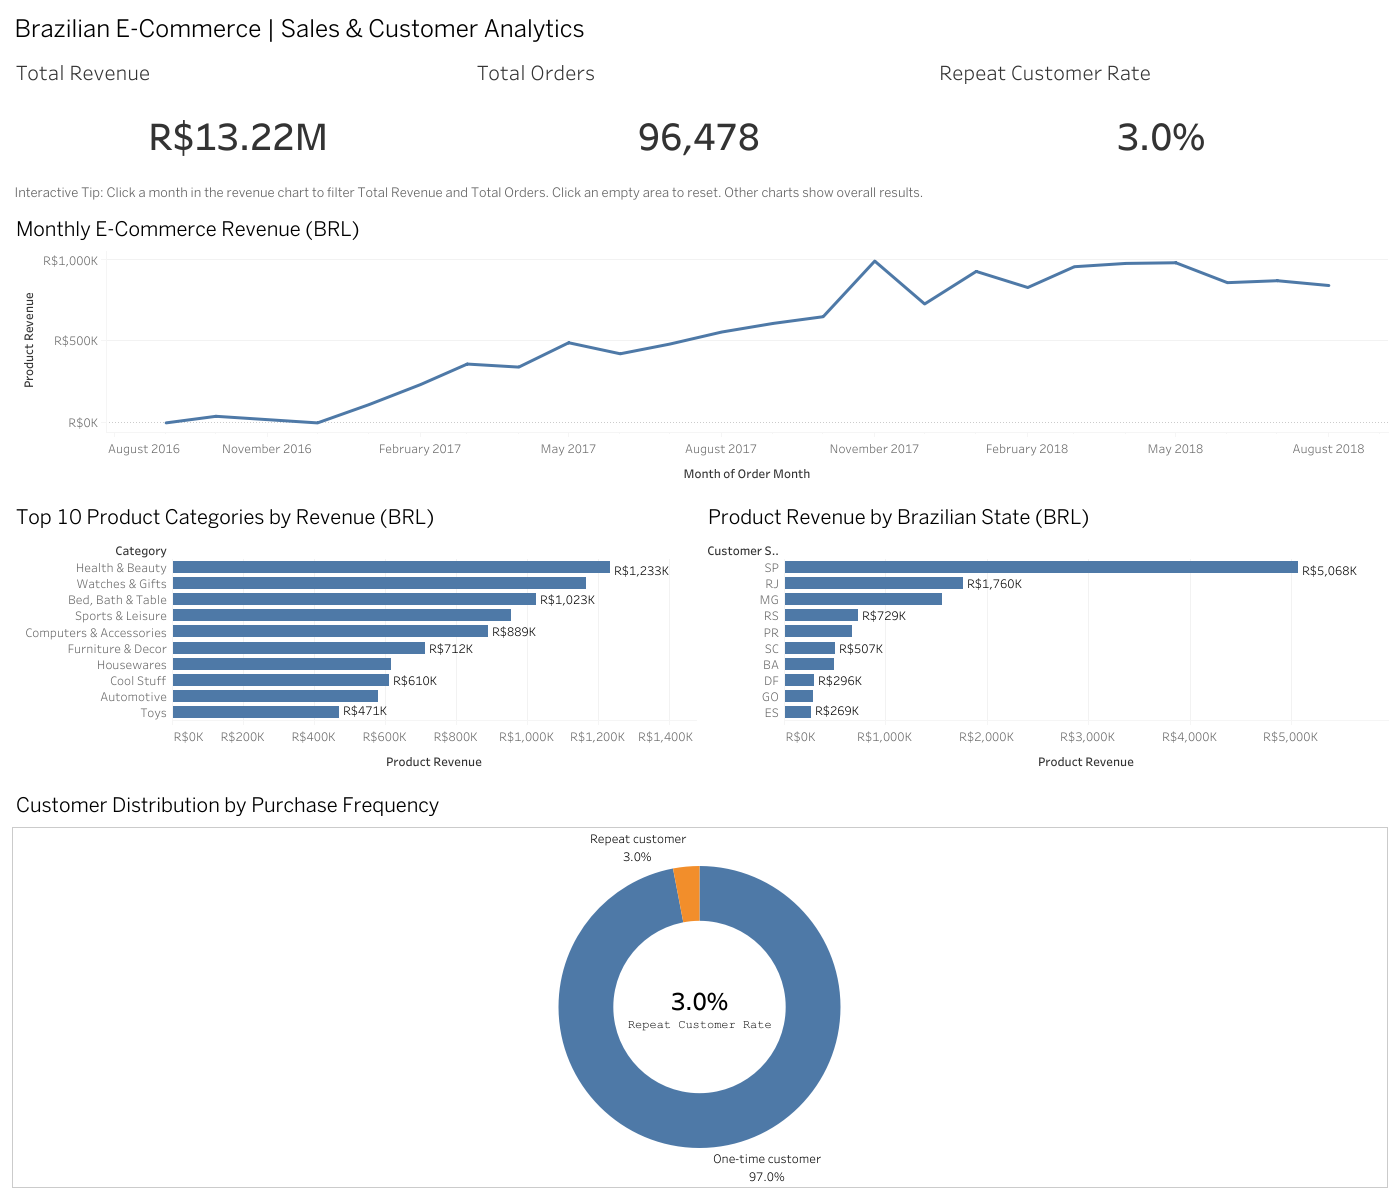

The dashboard page shown, as its layout file describes it:
{"tool":"tableau","page":{"name":"E-Commerce Sales Overview","canvas":[1400,1200],"ordinal":0},"visuals":[{"type":"title","box":[8,8,1384,39]},{"type":"worksheet","title":"KPI - Total Revenue","mark":"Automatic","box":[8,47,461.3,132]},{"type":"worksheet","title":"KPI - Total Orders","mark":"Automatic","box":[469.3,47,461.3,132]},{"type":"worksheet","title":"KPI - Repeat Customer Rate","mark":"Text","box":[930.6,47,461.3,132]},{"type":"text","box":[8,179,1384,25]},{"type":"worksheet","title":"Monthly Revenue Trend","mark":"Line","rows":["PRODUCT_REVENUE"],"cols":["ORDER_MONTH"],"box":[8,204,1384,288.4]},{"type":"worksheet","title":"Top Product Categories","mark":"Bar","rows":["CATEGORY"],"cols":["PRODUCT_REVENUE"],"box":[8,492.4,692,288.6]},{"type":"worksheet","title":"Revenue by State","mark":"Automatic","rows":["CUSTOMER_STATE"],"cols":["PRODUCT_REVENUE"],"box":[700,492.4,692,288.6]},{"type":"worksheet","title":"Customer Purchasing Behavior","mark":"Pie","cols":["Calculation_2024258175655936","Calculation_2024258175655936"],"box":[8,781,1384,411]}]}

Visuals, with their boxes in screenshot pixels (x1, y1, x2, y2), scaled from the page's 1400x1200 canvas onto the 1399x1199 screenshot:
title: <box>8,8,1391,47</box>
"KPI - Total Revenue" worksheet: <box>8,47,469,179</box>
"KPI - Total Orders" worksheet: <box>469,47,930,179</box>
"KPI - Repeat Customer Rate" worksheet (Text marks): <box>930,47,1391,179</box>
text: <box>8,179,1391,204</box>
"Monthly Revenue Trend" worksheet (Line marks): <box>8,204,1391,492</box>
"Top Product Categories" worksheet (Bar marks): <box>8,492,700,780</box>
"Revenue by State" worksheet: <box>700,492,1391,780</box>
"Customer Purchasing Behavior" worksheet (Pie marks): <box>8,780,1391,1191</box>
